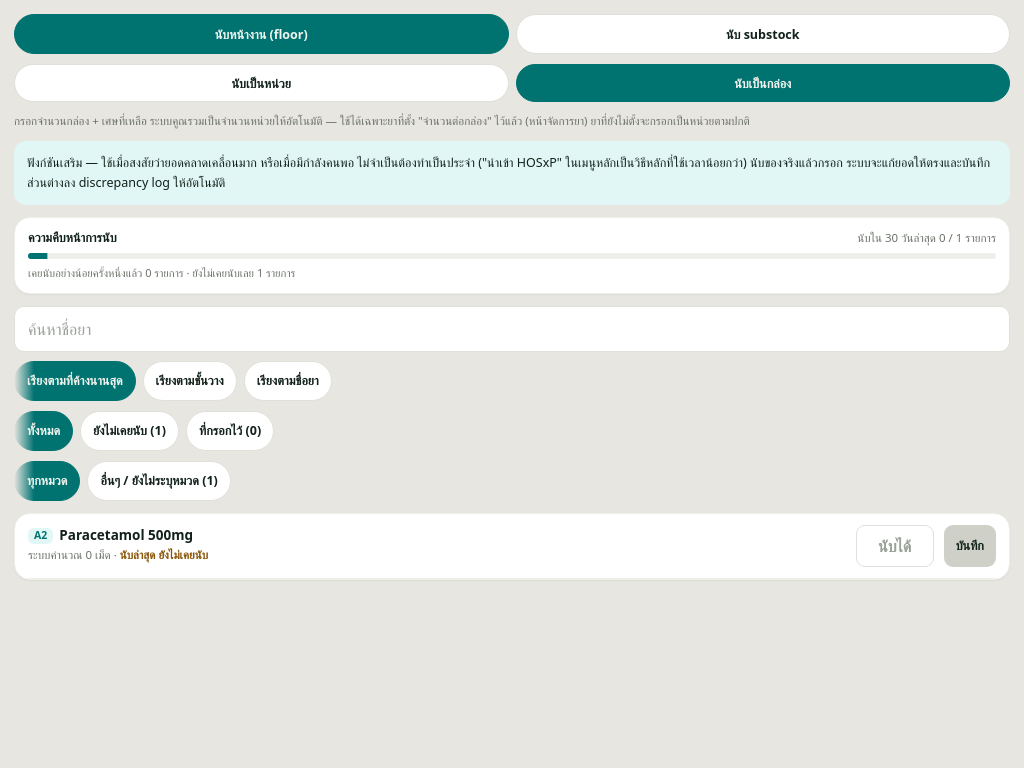
Test: CountScreen — commit-all button names the mode being saved › says "substock" while on the substock tab, for the same med and value
Click the button "นับ substock". click: (763, 34)
box: [516, 14, 1010, 54]
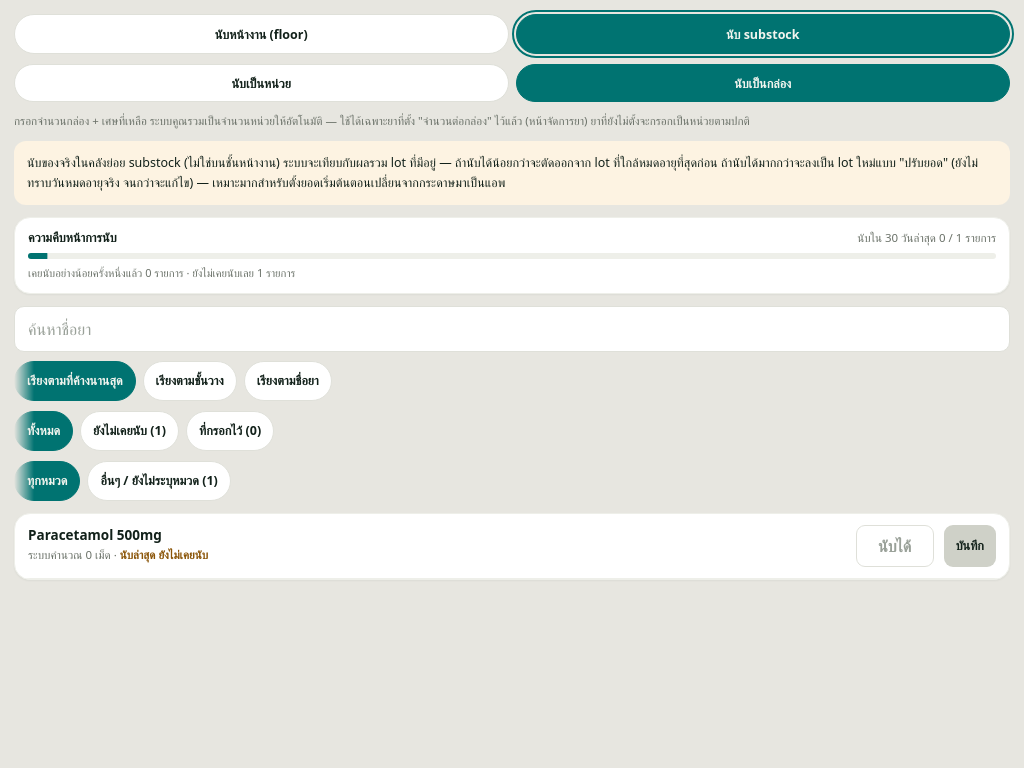
Type "30" into the field with placeholder "นับได้". click: (895, 546)
box: [856, 525, 934, 567]
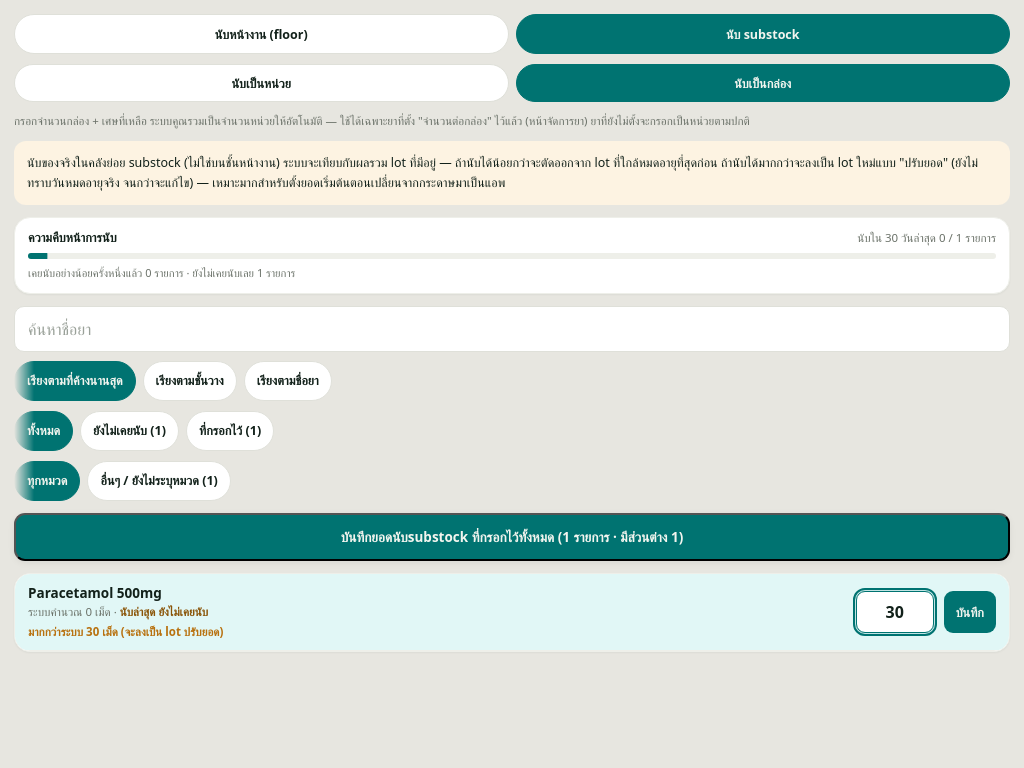
Expected: the button "บันทึกยอดนับsubstock ที่กรอกไว้ทั้งหมด" is shown, [14, 513, 1010, 561]
